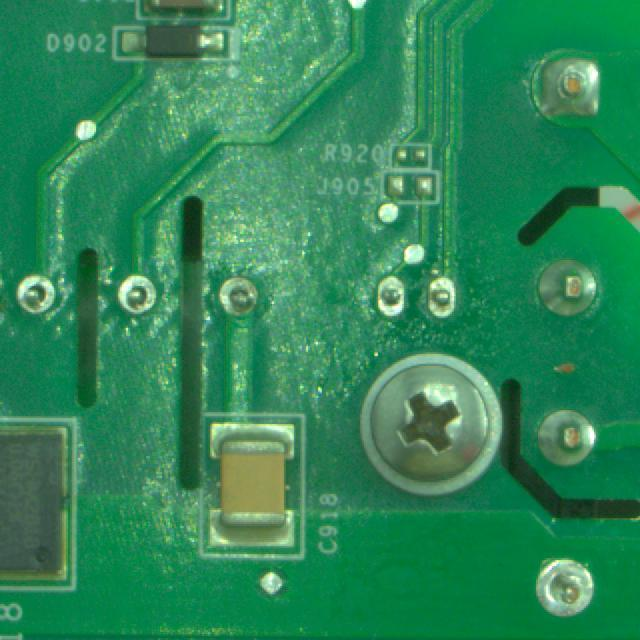Insufficient solder: (365, 267, 411, 322), (14, 270, 61, 321), (217, 276, 266, 322), (427, 269, 458, 327), (121, 273, 157, 318)
